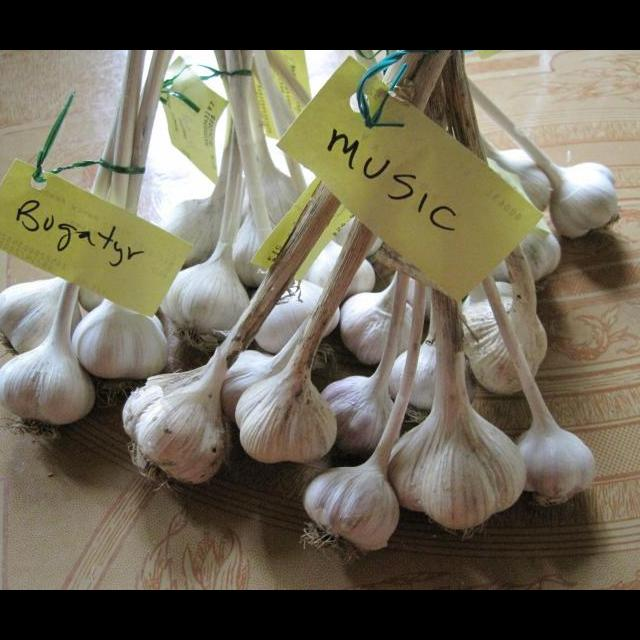garlic: (401, 407, 526, 531), (124, 372, 231, 485), (237, 371, 337, 465), (300, 461, 399, 555), (0, 336, 90, 428), (79, 305, 168, 378), (528, 416, 596, 506), (550, 159, 621, 242)
